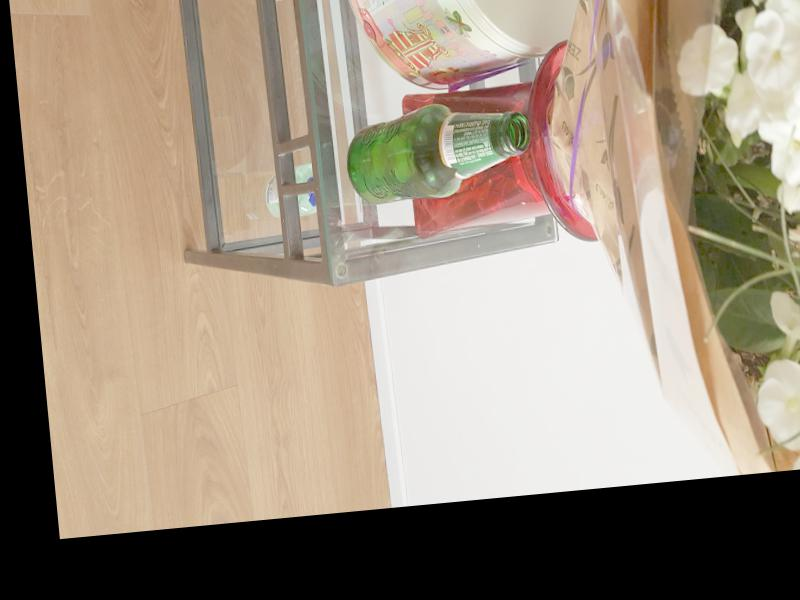Beer: (340, 95, 533, 207)
